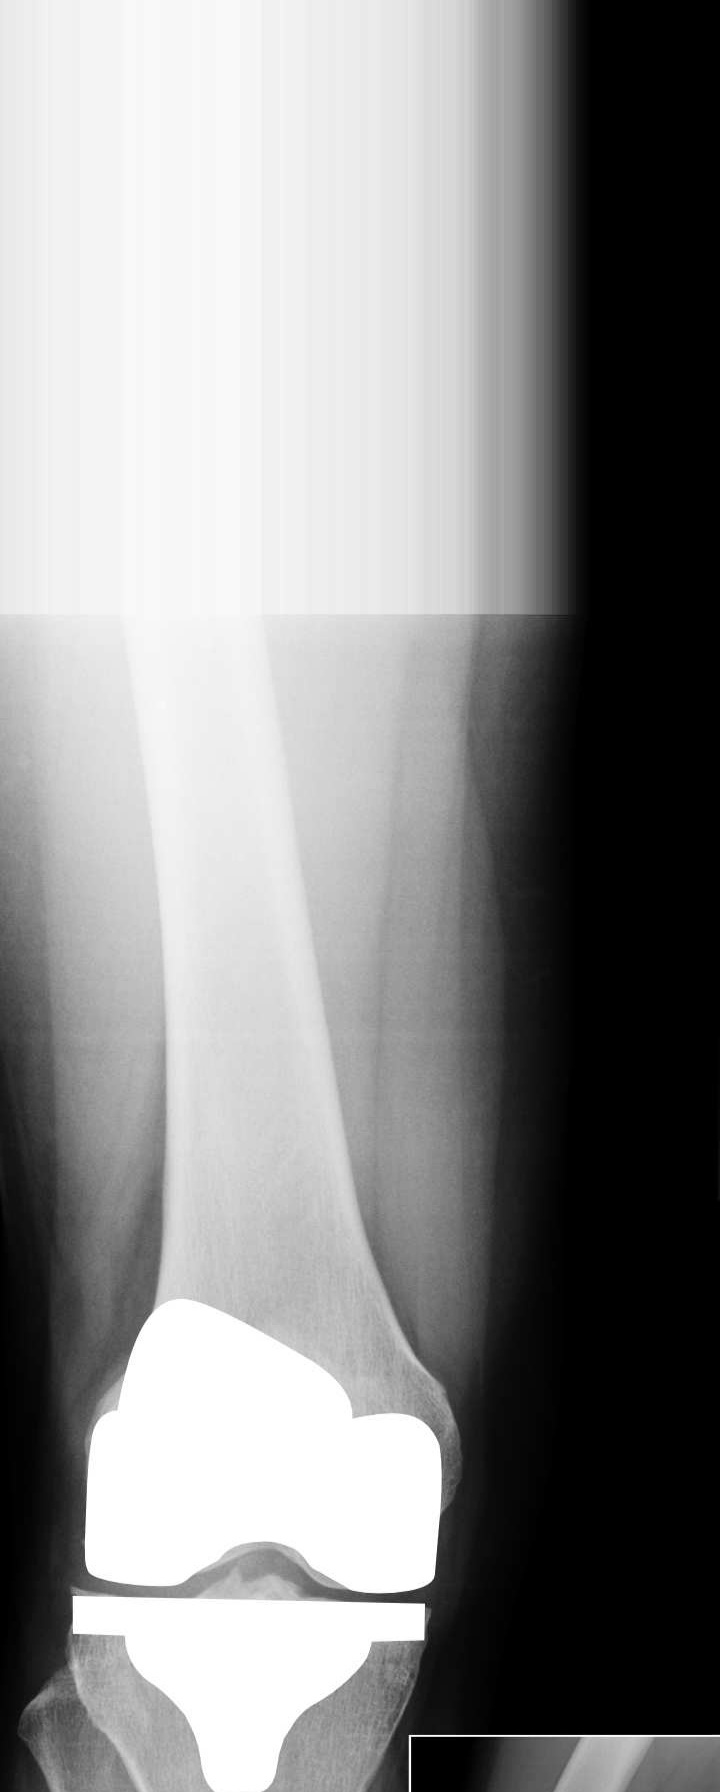Knee-Triathlon-Stryker: (51, 1298, 446, 1792)
